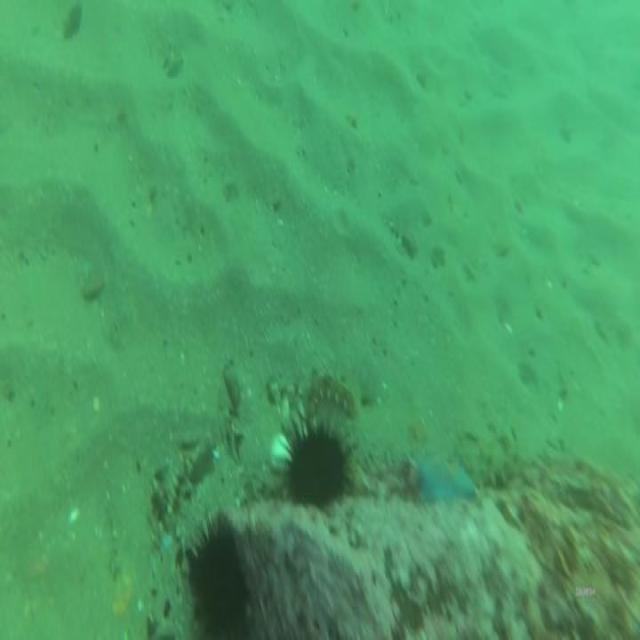echinus: (184, 515, 260, 640), (282, 424, 348, 518)
holothurian: (464, 434, 523, 486), (305, 375, 355, 417)
starfish: (408, 443, 481, 515)
